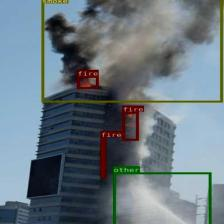fire: (122, 112, 138, 140), (77, 76, 98, 88), (100, 137, 105, 178)
smoke: (41, 0, 222, 102)
